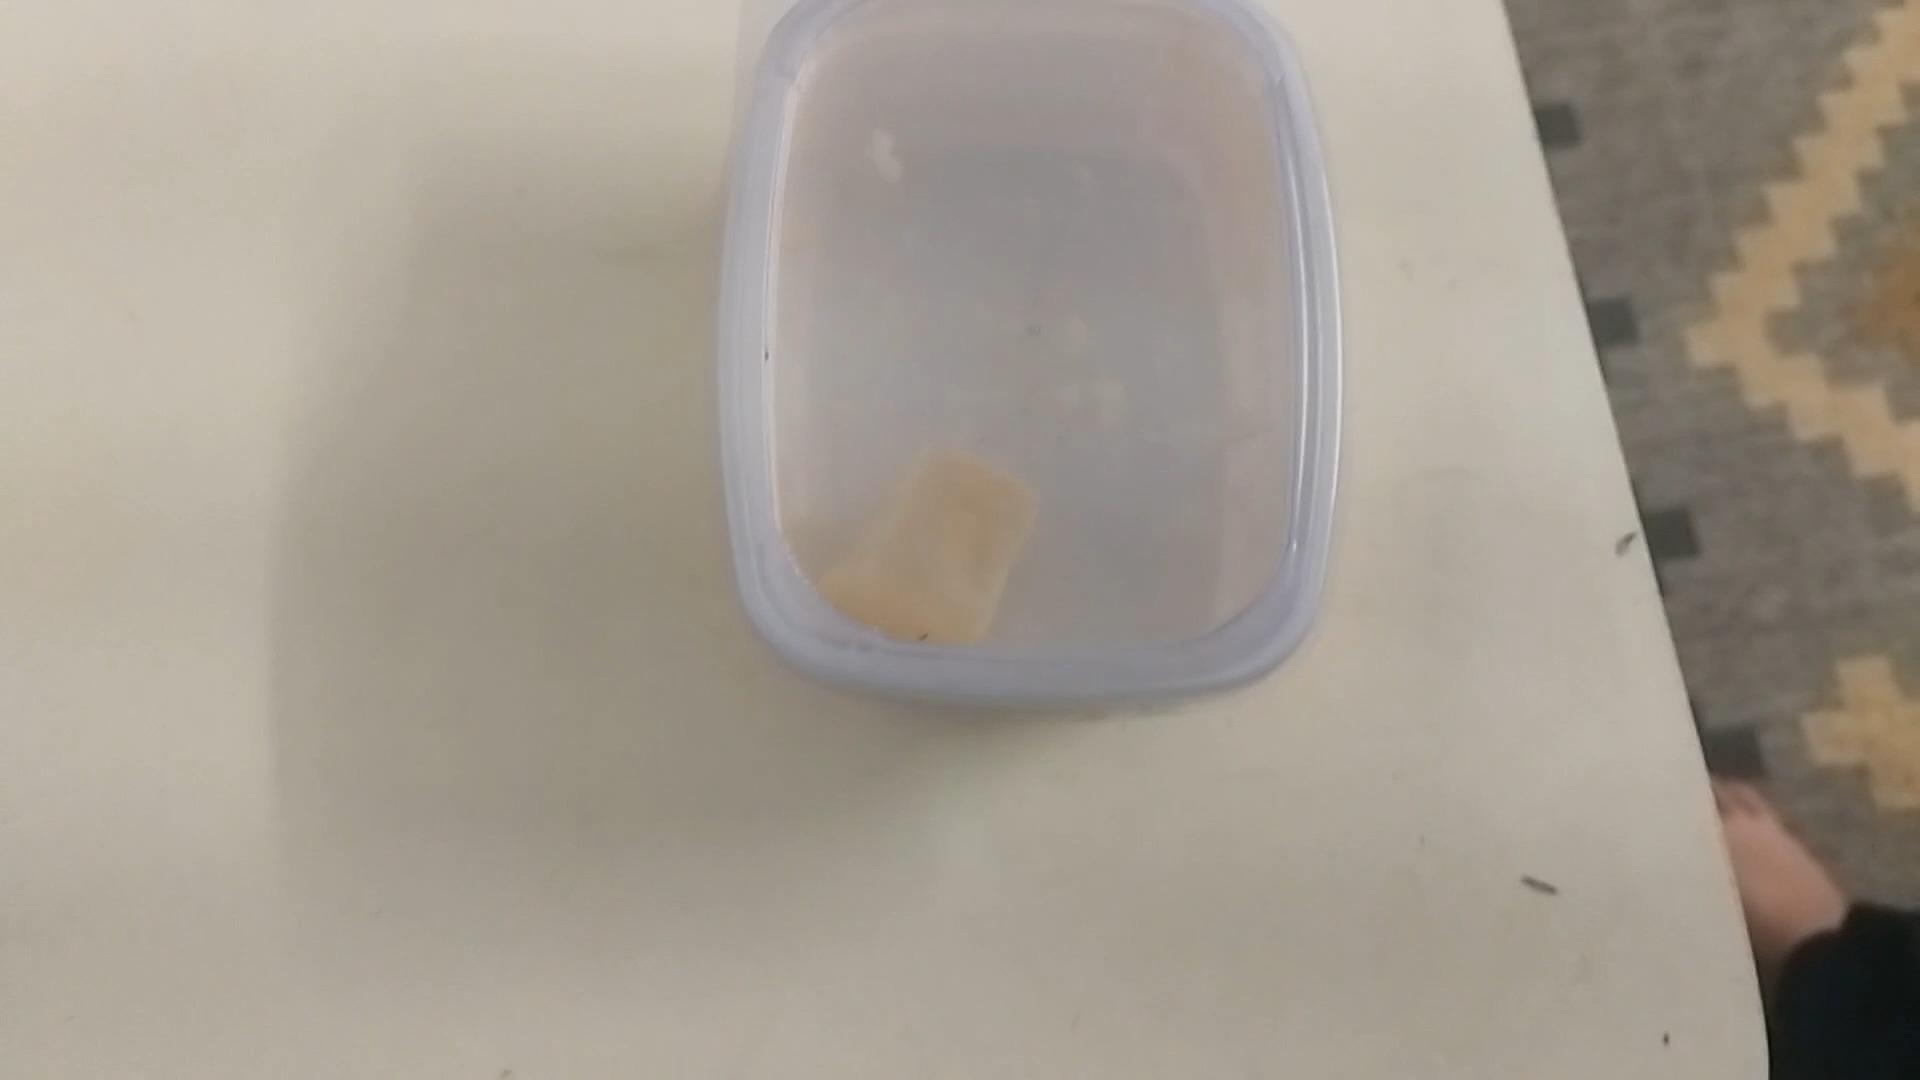butter: (727, 0, 1327, 708)
